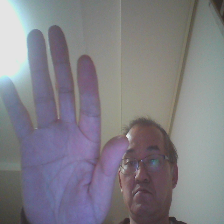hand: (3, 23, 121, 224)
